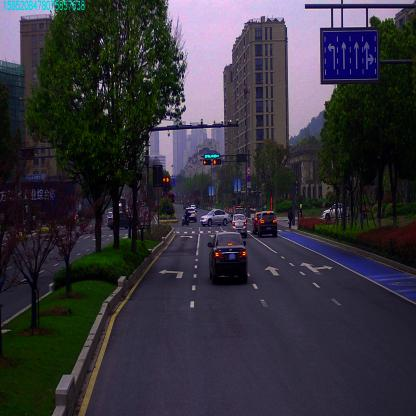traffic-light: (204, 151, 219, 158), (213, 159, 222, 166), (203, 159, 210, 165)
